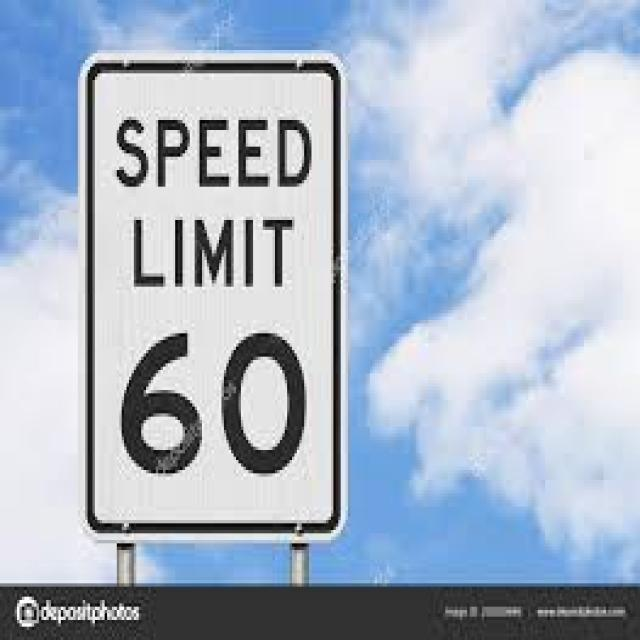speedLimit60: (76, 50, 346, 537)
